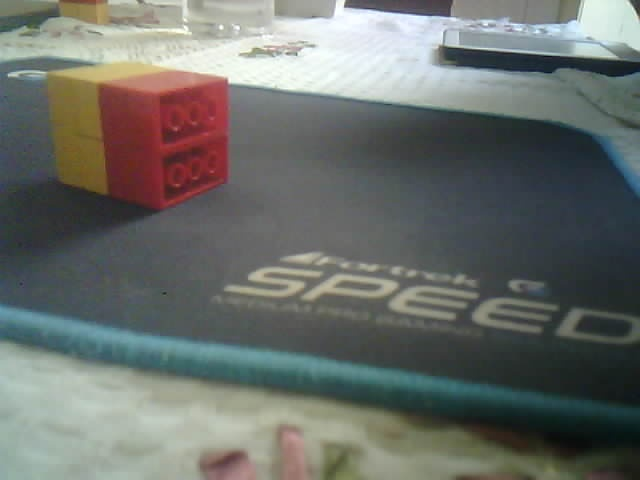lego: (44, 62, 231, 212), (57, 1, 111, 26)
